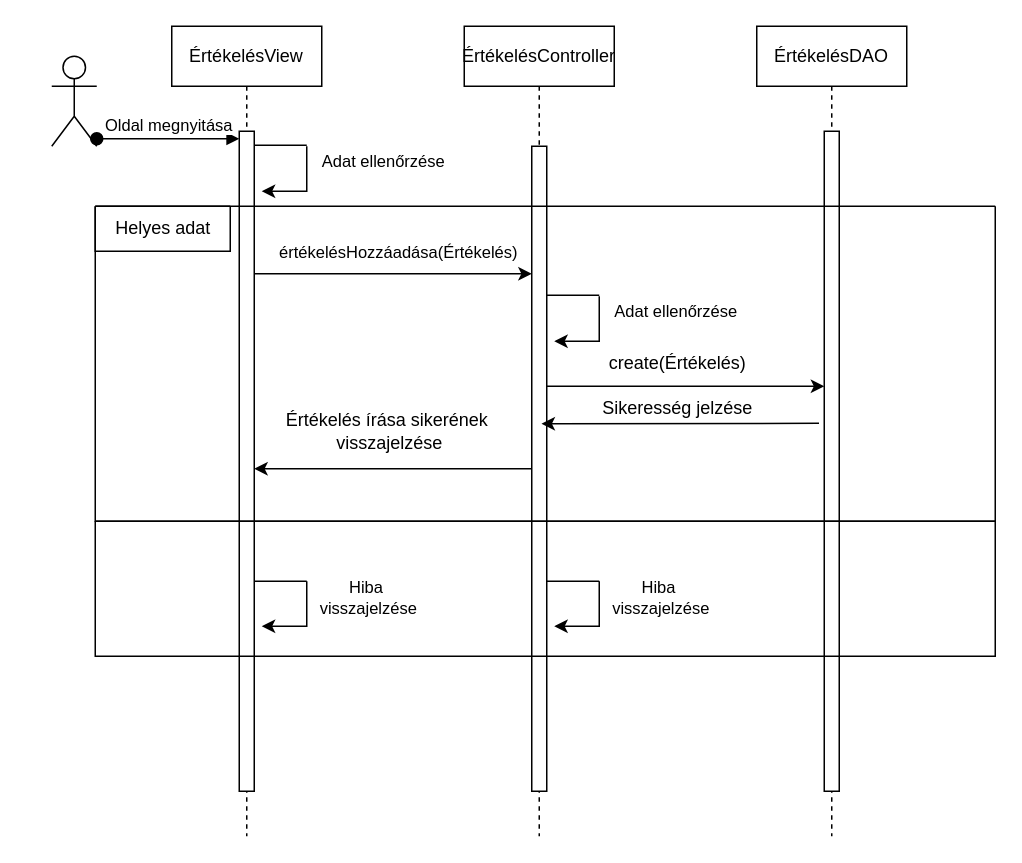
Image size: 1022x863. Some labels were removed from this diagram. Each missing label, with the box of its shape:
Felhasználó: (50, 55, 97, 146)
Hibás adat: (94, 520, 995, 656)
